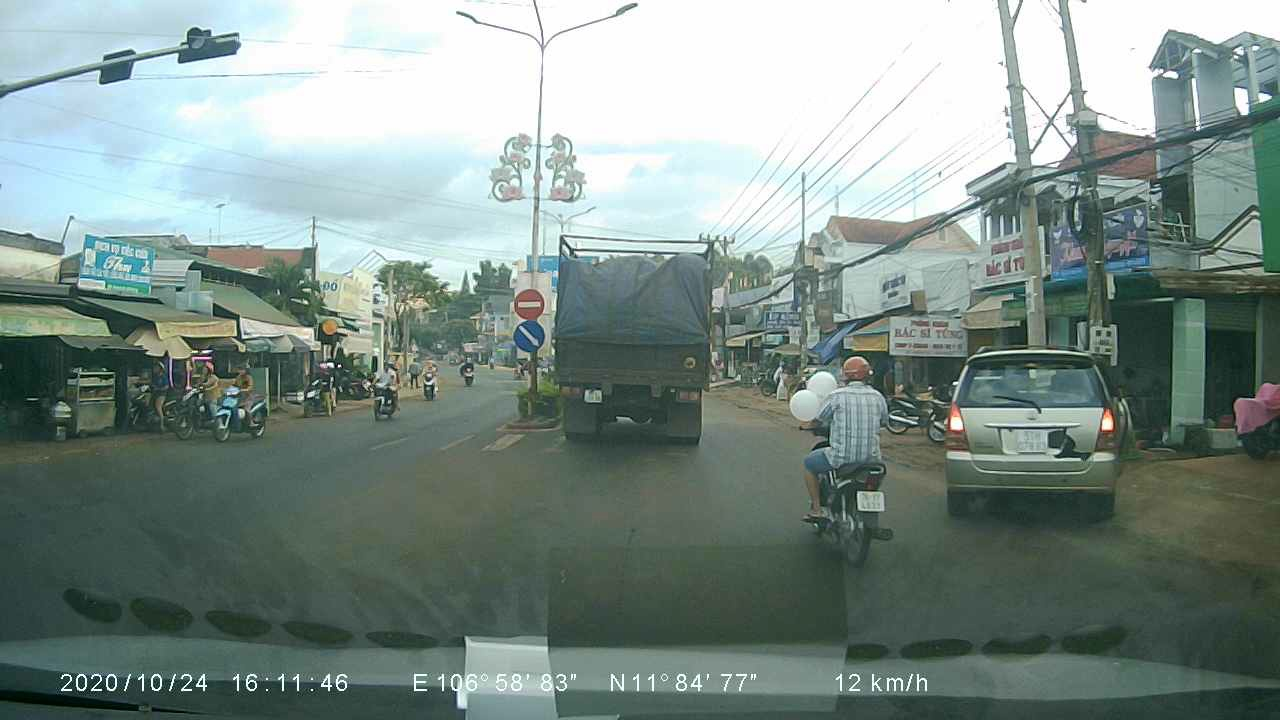Cam di nguoc chieu: (511, 284, 544, 318)
Huong di phai re phai: (512, 321, 548, 353)
